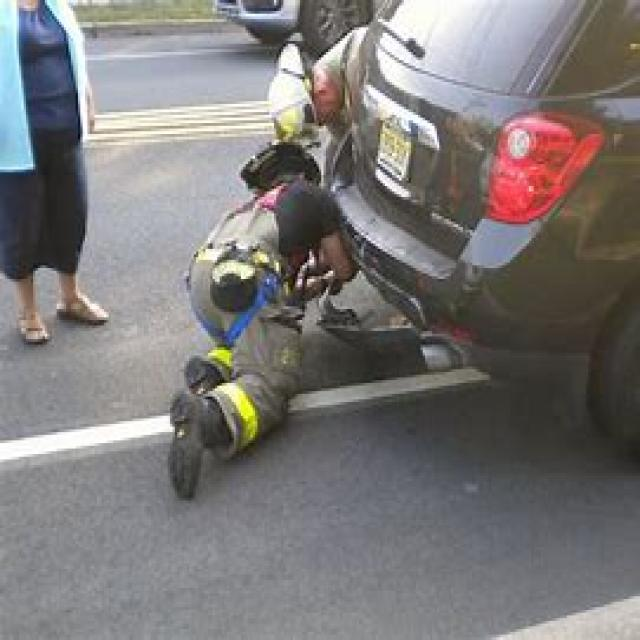Accident: (281, 39, 589, 431)
